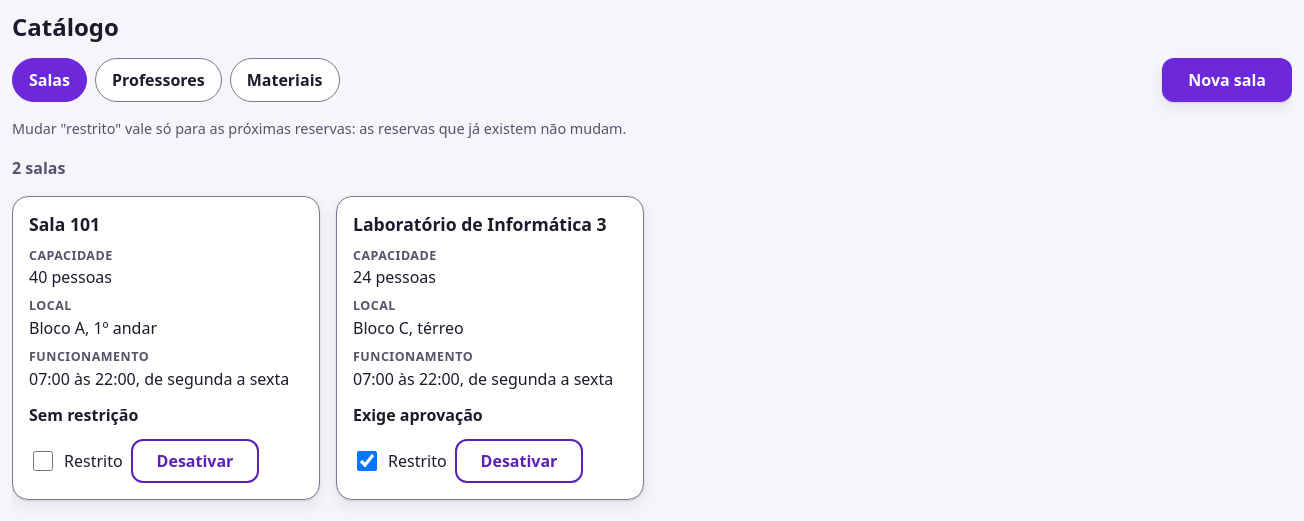
PaginaDoCatalogo: abas e lista › material: código de patrimônio e descrição
Step 1. Click the tab "Materiais" → coordinates (285, 80), box [230,58,340,102]
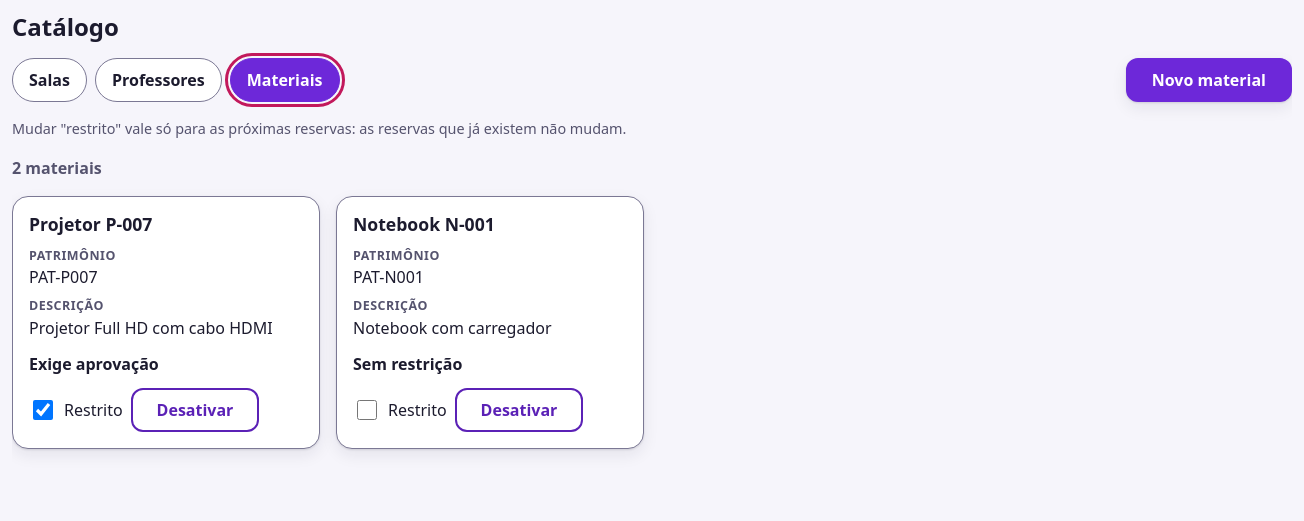
Expected: the text "PAT-P007" is shown, [29,266,98,288]
Expected: the text "Projetor Full HD com cabo HDMI" is shown, [29,316,303,340]
Expected: the text "Exige aprovação" is shown, [29,353,159,375]
